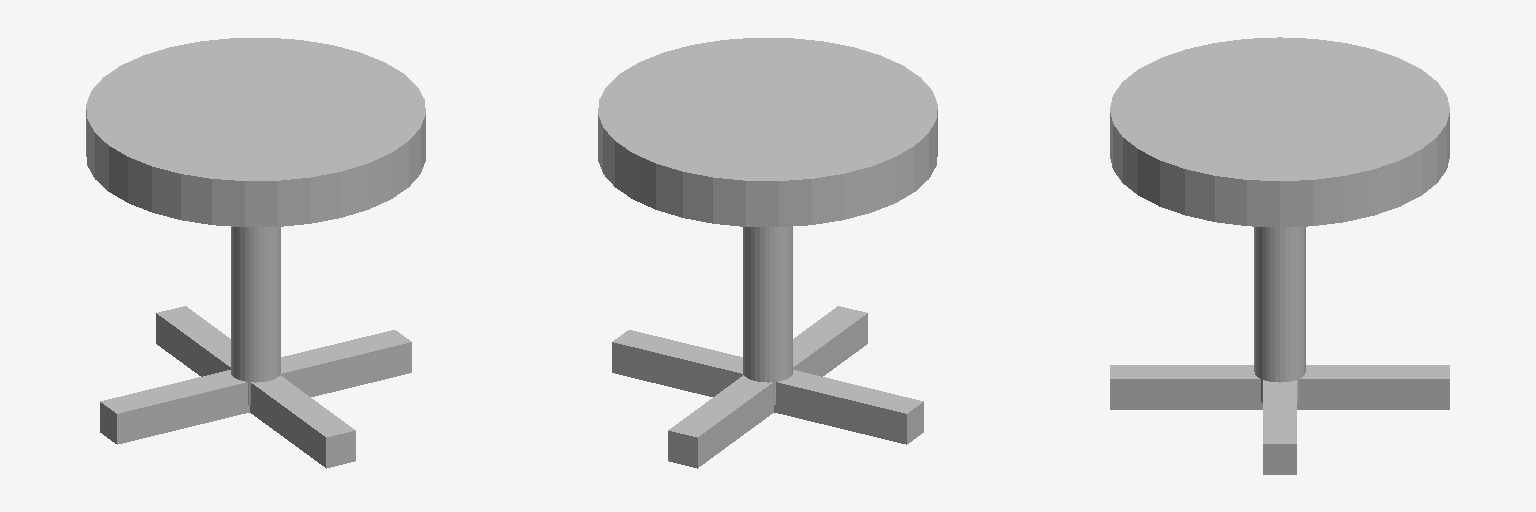
Rendered from chair.obj.
3 views of the same model, side by side, from view 1: azimuth 30°, elevation 25°; view 2: azimuth 150°, elevation 25°; view 3: azimuth 270°, elevation 25° (orthographic).
Parts seen in each view (by area): view 1: Cylinder.001, Cube.001, Cube, Cylinder; view 2: Cylinder.001, Cube.001, Cube, Cylinder; view 3: Cylinder.001, Cube, Cylinder, Cube.001.
Boxes of the visible parts, <box> form: Cylinder.001: <box>86,38,425,226</box>; Cube.001: <box>100,330,411,444</box>; Cube: <box>156,306,355,468</box>; Cylinder: <box>231,227,280,404</box>; Cylinder.001: <box>598,38,937,226</box>; Cube.001: <box>612,330,923,444</box>; Cube: <box>668,306,867,468</box>; Cylinder: <box>743,227,792,404</box>; Cylinder.001: <box>1110,37,1449,227</box>; Cube: <box>1110,365,1449,409</box>; Cylinder: <box>1254,227,1305,402</box>; Cube.001: <box>1263,380,1296,474</box>.
Bounding box in the file's own units: 2 × 1.9 × 2.